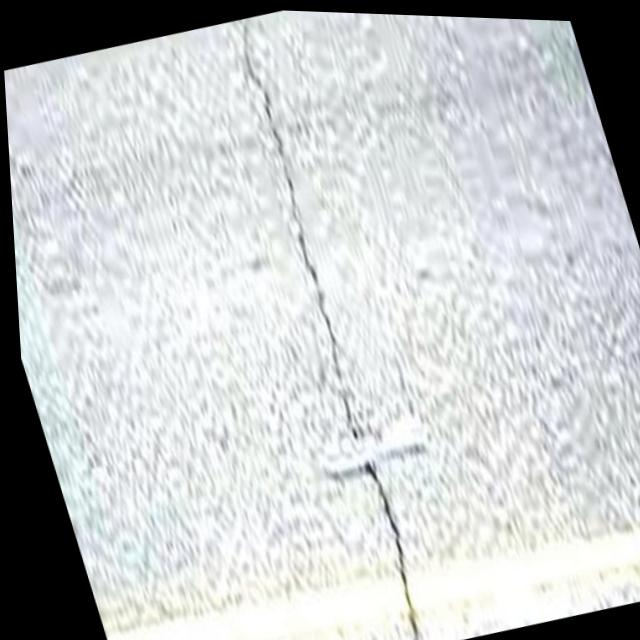Crack: (220, 13, 445, 640)
